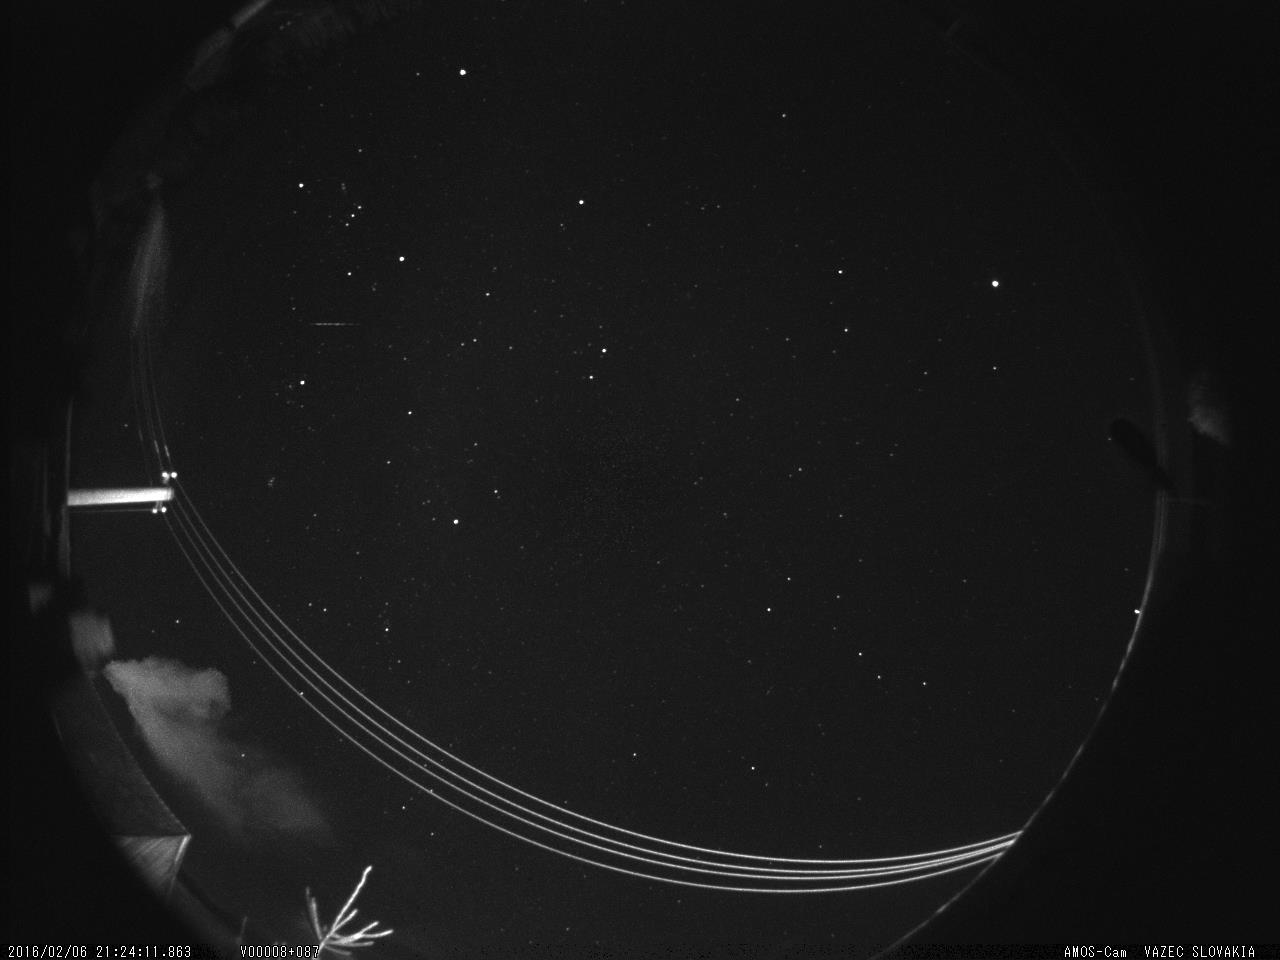meteor: (292, 293, 387, 343)
